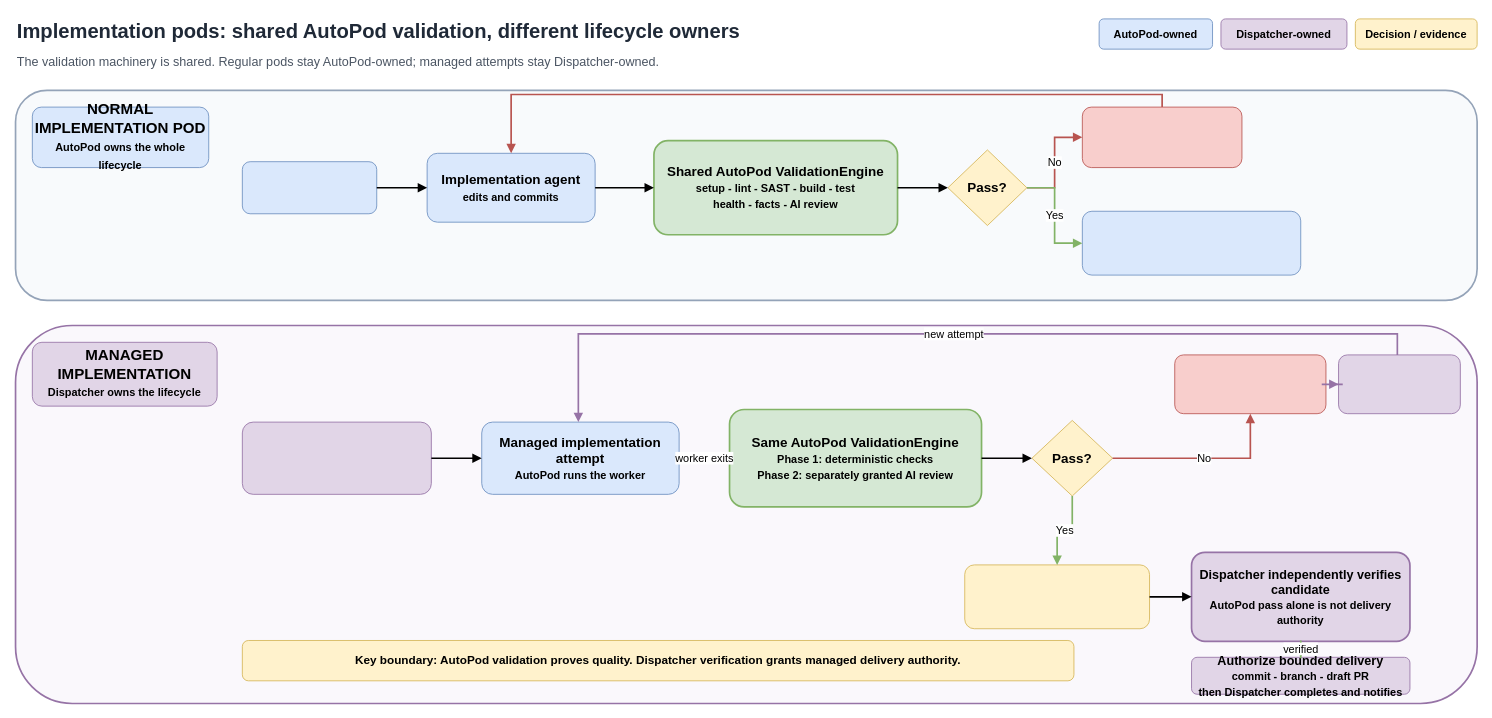
Image size: 1492x718. Some labels were removed from this diagram. The centre of each missing label's shape, as x and y in pixels:
Approval - PR - merge monitoring AutoPod completes and notifies: [1191,242]
Correction turn same pod retries: [1162,137]
Dispatcher authorizes new corrective attempt: [1399,384]
Dispatcher workflow attempt ID - route - grant - budget: [336,457]
Freeze exact candidate validation evidence bound to commit: [1057,596]
Pod request: [309,187]
Validation evidence no source delivery: [1250,384]
